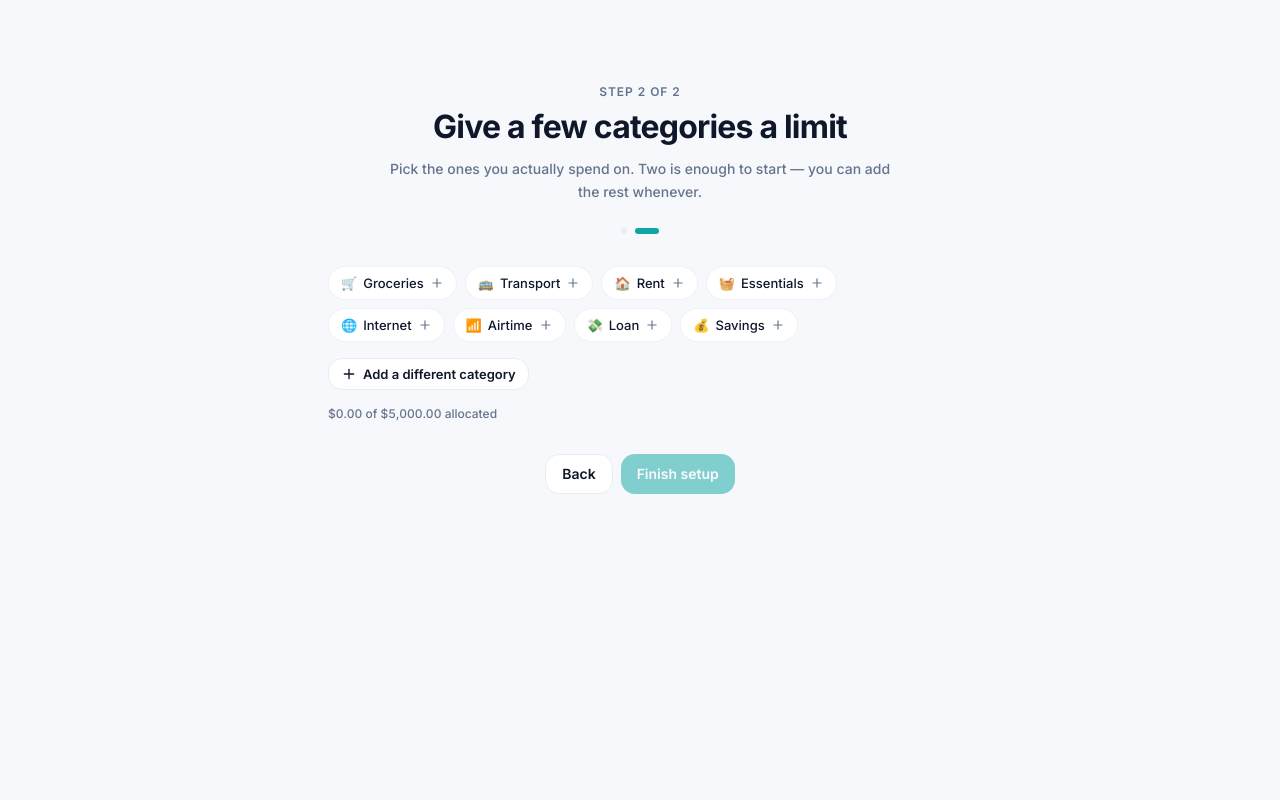
it: guided setup: budgets step › shows a running allocated-of-income total
Click the button "🛒 Groceries" at (392, 282), box [328,266,457,300]
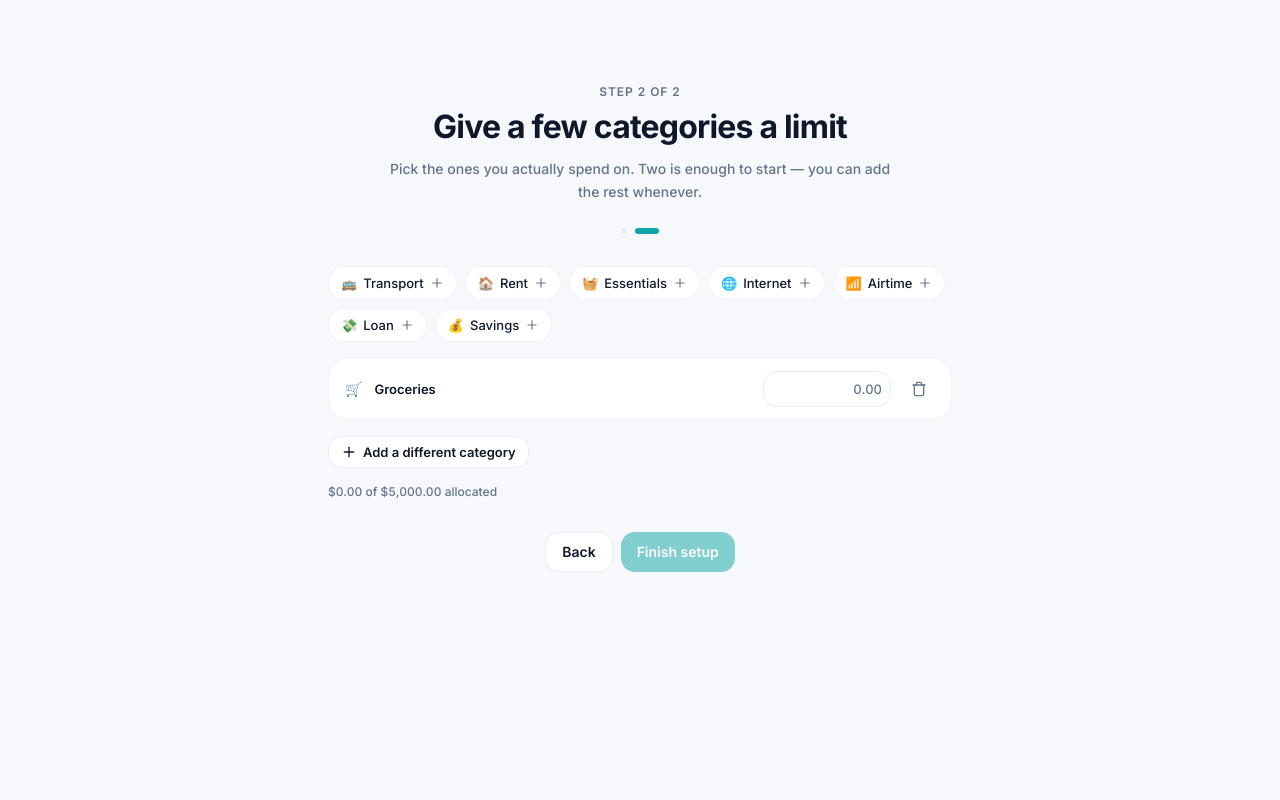
Type "1000" into the field with placeholder "0.00" at (827, 388), box [763,370,891,406]
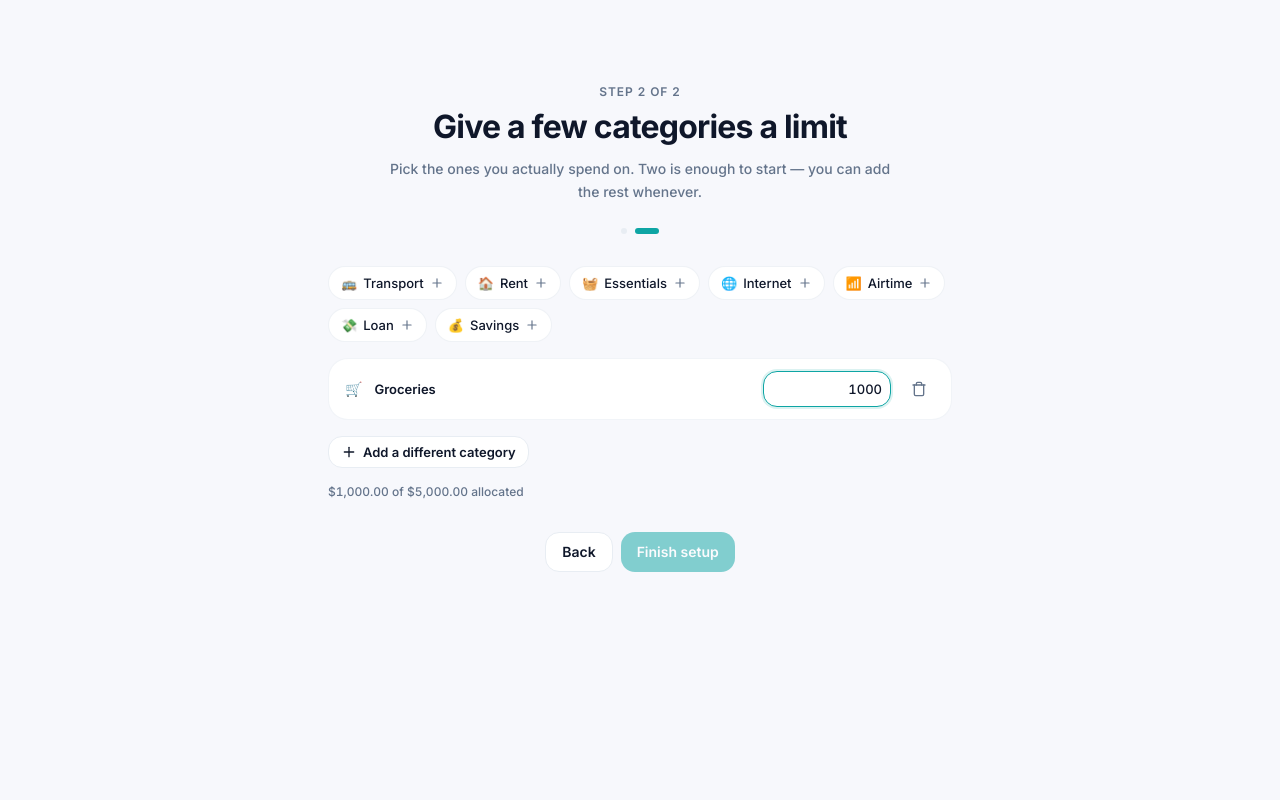
Expected: the text "$1,000.00 of $5,000.00 allocated" is shown, [328,484,524,498]
